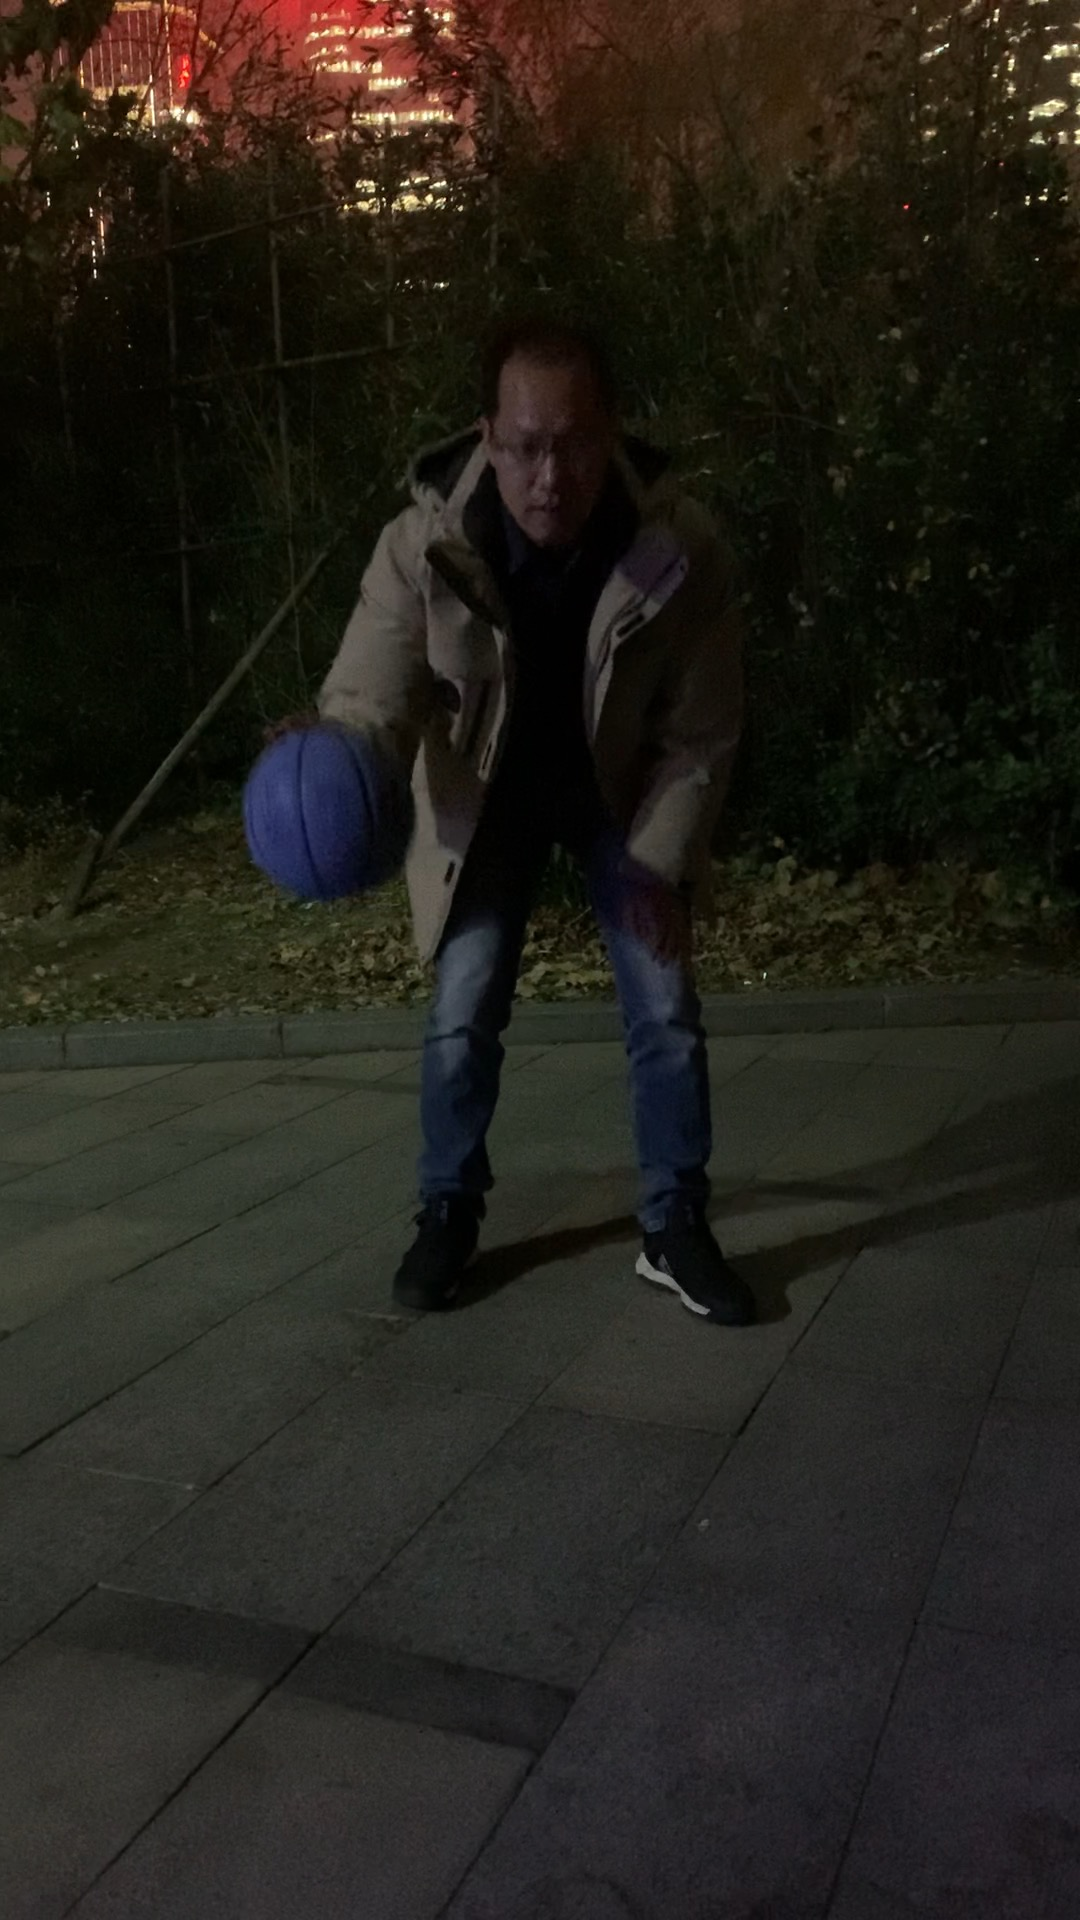ball: (248, 725, 418, 894)
